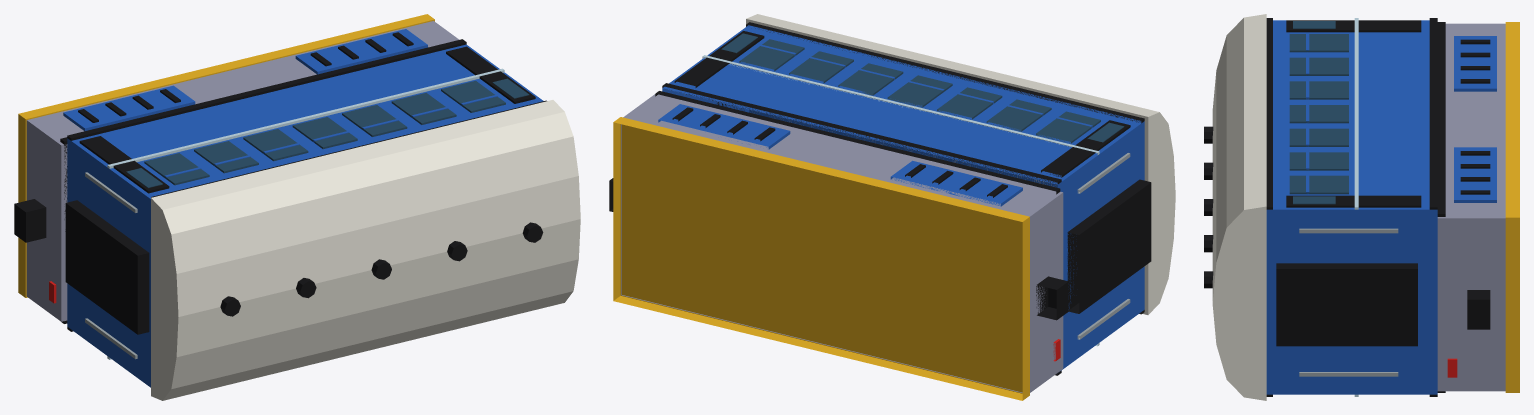
The picture shows the model from 3 angles, left to right: view 1: azimuth 30°, elevation 25°; view 2: azimuth 150°, elevation 25°; view 3: azimuth 270°, elevation 25°; orthographic projection.
Visible parts, largest first — view 1: default_roof, default_body, default_base, default_gangway-1, default_stripe, default_side1_-3.40_2.00, default_pod10, default_pod11, default_side1_-3.40_3.20, default_side1_2.97_2.25, default_side1_-3.33_2.25, default_coupler-1 (+8 smaller); view 2: default_stripe, default_body, default_base, default_roof, default_gangway-1, default_pod10, default_side1_-3.40_2.00, default_pod11, default_side1_-3.40_4.50, default_base_lip, default_side1_-3.40_3.20, default_side1_-3.33_2.25 (+9 smaller); view 3: default_body, default_roof, default_base, default_gangway1, default_stripe, default_pod11, default_pod10, default_base_lip, default_side1_-3.40_2.00, default_side1_2.97_2.25, default_side1_-3.33_2.25, default_side1_-3.40_4.50 (+13 smaller).
Part boxes in pixels (x1=…): default_roof: x1=151, y1=100, x2=580, y2=400; default_body: x1=67, y1=44, x2=543, y2=387; default_base: x1=26, y1=21, x2=459, y2=321; default_gangway-1: x1=65, y1=200, x2=149, y2=334; default_stripe: x1=18, y1=14, x2=434, y2=297; default_side1_-3.40_2.00: x1=67, y1=39, x2=466, y2=140; default_pod10: x1=63, y1=85, x2=195, y2=131; default_pod11: x1=295, y1=29, x2=427, y2=74; default_side1_-3.40_3.20: x1=107, y1=68, x2=504, y2=168; default_side1_2.97_2.25: x1=446, y1=46, x2=535, y2=103; default_side1_-3.33_2.25: x1=79, y1=136, x2=169, y2=193; default_coupler-1: x1=14, y1=199, x2=46, y2=242; default_stripe: x1=613, y1=117, x2=1029, y2=400; default_body: x1=662, y1=25, x2=1144, y2=371; default_base: x1=621, y1=94, x2=1063, y2=392; default_roof: x1=746, y1=14, x2=1175, y2=314; default_gangway-1: x1=1067, y1=179, x2=1151, y2=313; default_pod10: x1=890, y1=160, x2=1022, y2=206; default_side1_-3.40_2.00: x1=662, y1=83, x2=1061, y2=184; default_pod11: x1=658, y1=104, x2=790, y2=149; default_side1_-3.40_4.50: x1=746, y1=22, x2=1144, y2=123; default_base_lip: x1=655, y1=91, x2=1060, y2=373; default_side1_-3.40_3.20: x1=702, y1=55, x2=1099, y2=154; default_side1_-3.33_2.25: x1=1041, y1=120, x2=1130, y2=177; default_body: x1=1266, y1=20, x2=1437, y2=394; default_roof: x1=1212, y1=14, x2=1266, y2=400; default_base: x1=1437, y1=23, x2=1505, y2=391; default_gangway1: x1=1276, y1=263, x2=1417, y2=346; default_stripe: x1=1505, y1=22, x2=1519, y2=392; default_pod11: x1=1454, y1=147, x2=1496, y2=202; default_pod10: x1=1454, y1=36, x2=1496, y2=91; default_base_lip: x1=1437, y1=22, x2=1445, y2=392; default_side1_-3.40_2.00: x1=1429, y1=18, x2=1437, y2=209; default_side1_2.97_2.25: x1=1286, y1=195, x2=1421, y2=207; default_side1_-3.33_2.25: x1=1286, y1=20, x2=1421, y2=32; default_side1_-3.40_4.50: x1=1266, y1=18, x2=1272, y2=209.
Size of the model in its own units: 7.7 by 3.26 by 4.8.
